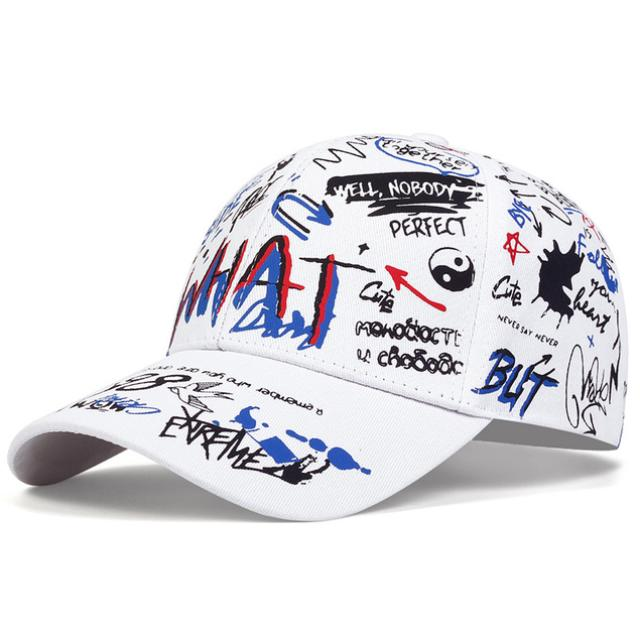Nonhelmet: (2, 110, 635, 532)
